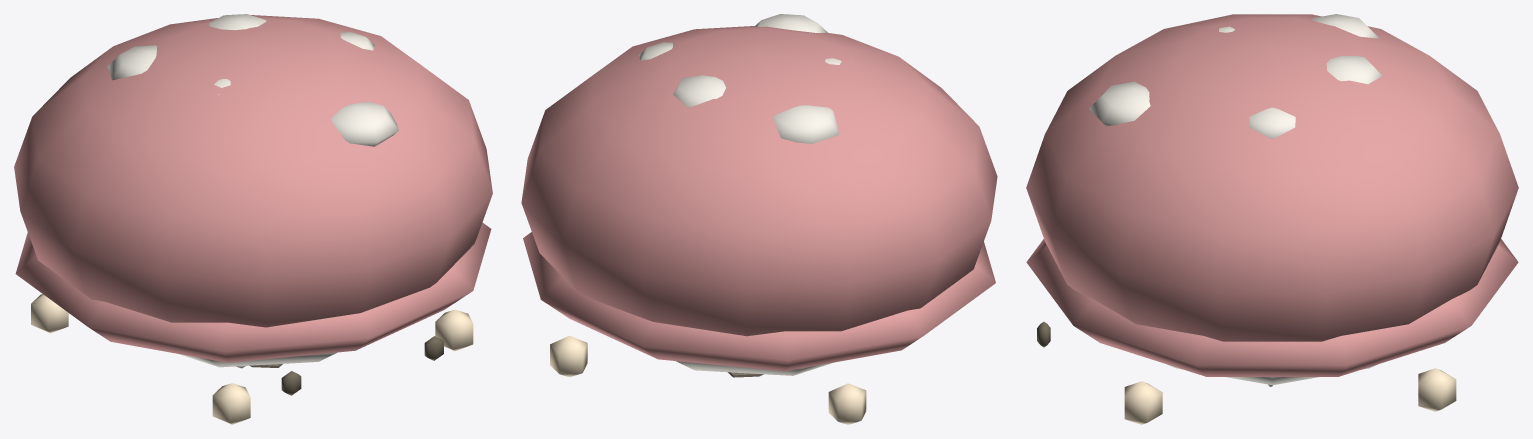
Rendered from toxic_mushroom_idle.fbx.
3 views of the same model, side by side, from view 1: azimuth 30°, elevation 25°; view 2: azimuth 150°, elevation 25°; view 3: azimuth 270°, elevation 25° (orthographic). The views are drawn at different scales.
Visible parts, largest first — view 1: Body_toxic_mushroom; view 2: Body_toxic_mushroom; view 3: Body_toxic_mushroom.
Boxes of the visible parts, box(x1,y1,x2,y2) form: Body_toxic_mushroom: box(14, 14, 492, 424); Body_toxic_mushroom: box(521, 14, 997, 424); Body_toxic_mushroom: box(1026, 14, 1518, 424).
Size of the model in its own units: 234 by 172 by 231.
